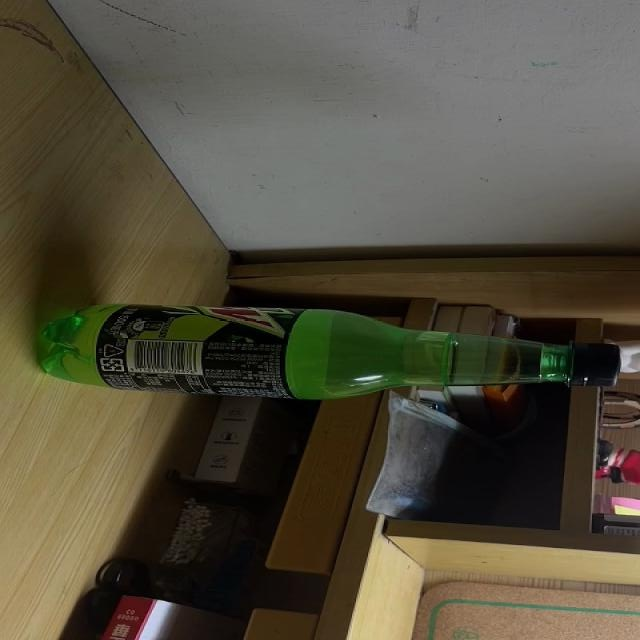Mountain-Dew: (36, 302, 623, 398)
